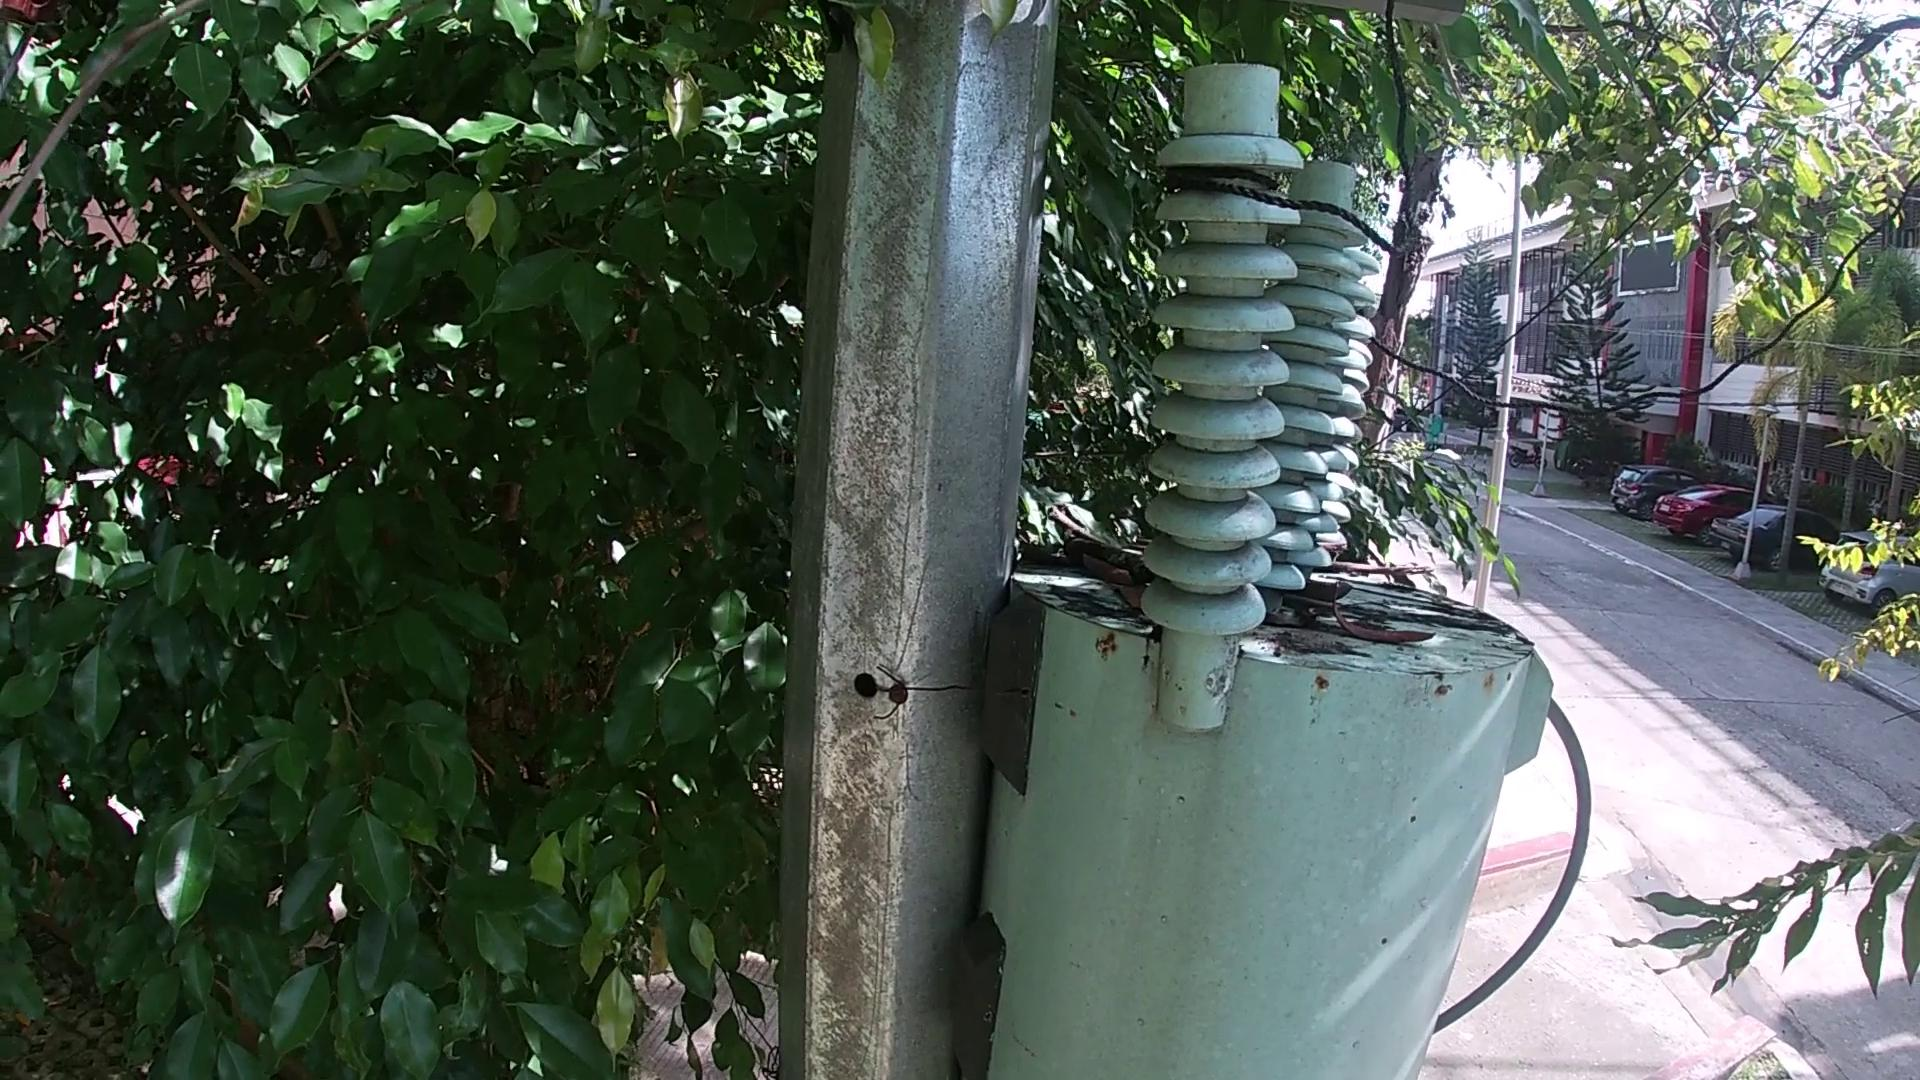leaf: (1106, 572, 1139, 612), (1269, 612, 1327, 630)
mahogany fruit: (1331, 607, 1443, 649), (1288, 583, 1361, 615)
tree branch: (1043, 501, 1126, 541), (1054, 530, 1145, 562), (1331, 558, 1433, 585)
